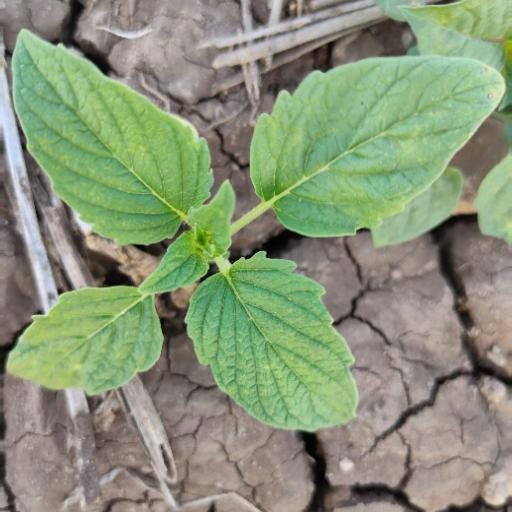crop: (9, 24, 512, 434)
